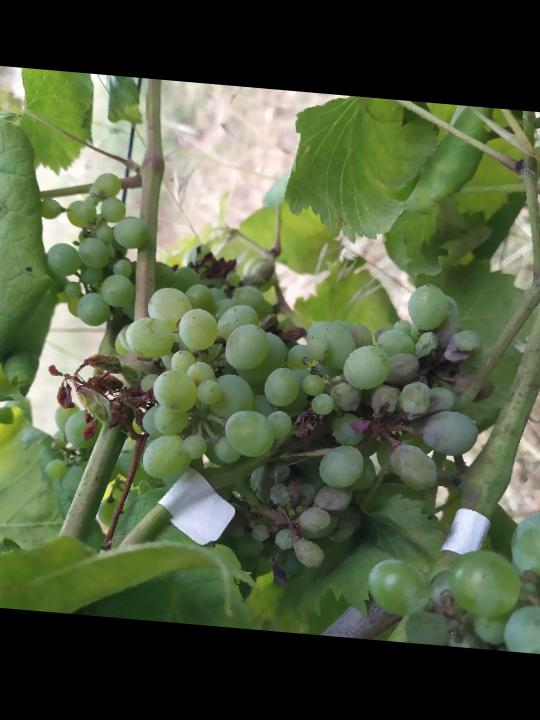grape: (58, 248, 495, 584)
